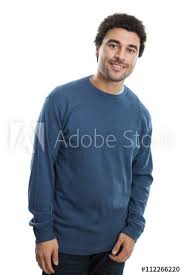middle_eastern_male: (103, 22, 143, 86)
